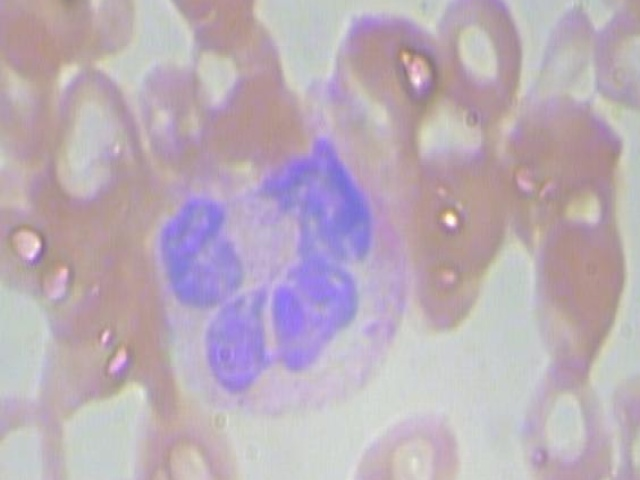RBC: (33, 61, 162, 210), (515, 218, 637, 368), (498, 80, 630, 217), (317, 1, 449, 127), (407, 126, 515, 277), (180, 0, 291, 130), (498, 366, 620, 480), (426, 0, 533, 127), (0, 156, 88, 307), (132, 389, 239, 480), (343, 404, 466, 480), (0, 0, 103, 75), (0, 395, 79, 480), (589, 0, 640, 109), (608, 361, 640, 480), (161, 0, 268, 33), (599, 470, 640, 480), (63, 479, 176, 480)
WBC: (149, 129, 414, 427)
